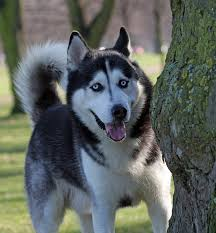Bulldog: (14, 25, 183, 231)
